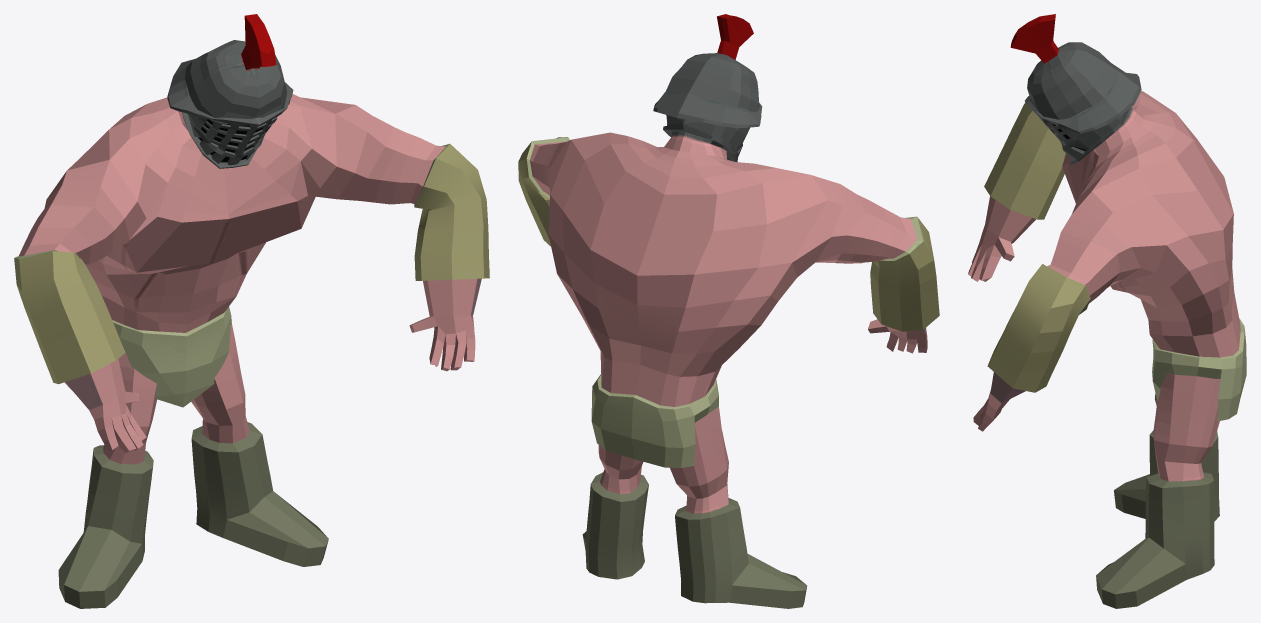
The model's file is GladiatorCelebracion_000449.obj.
The picture shows the model from 3 angles, left to right: view 1: azimuth 30°, elevation 25°; view 2: azimuth 150°, elevation 25°; view 3: azimuth 270°, elevation 25°; orthographic projection. The views are drawn at different scales.
Visible parts, largest first — view 1: Gadiador_Gladiador_H; view 2: Gadiador_Gladiador_H; view 3: Gadiador_Gladiador_H.
Boxes of the visible parts, x1,y1,x2,y2 form: Gadiador_Gladiador_H: [14, 14, 489, 608]; Gadiador_Gladiador_H: [518, 14, 939, 608]; Gadiador_Gladiador_H: [968, 14, 1246, 608].
Bounding box in the file's own units: 5.67 × 6.99 × 3.23.
1 material, 1 textured.
